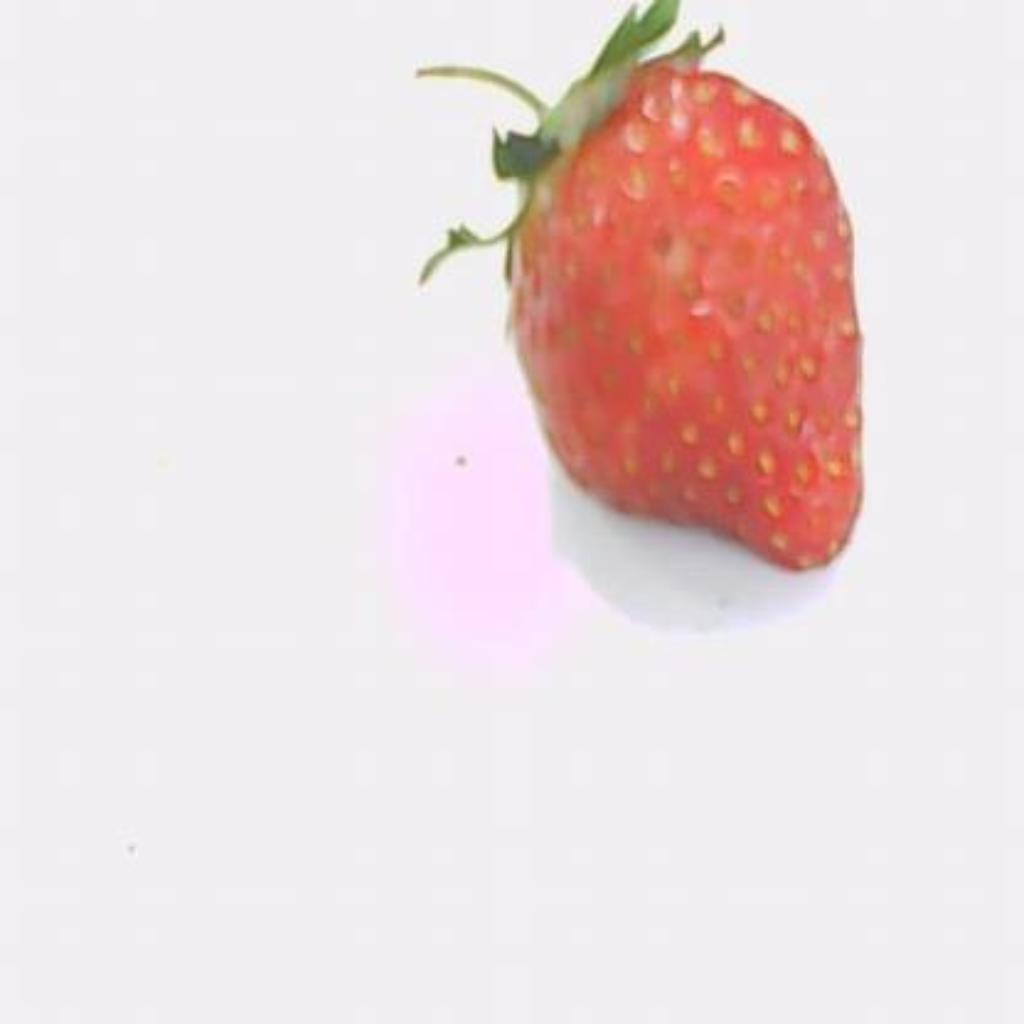strawberry: (420, 0, 862, 569)
